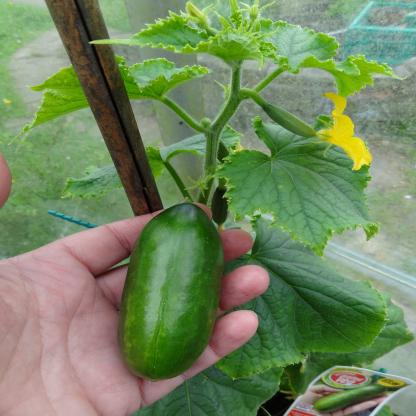--: (119, 202, 219, 384)
